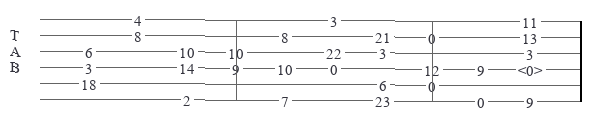0: (330, 61, 342, 75), (428, 77, 440, 91), (428, 29, 440, 43), (477, 93, 489, 107)
10: (179, 45, 199, 59), (228, 45, 248, 59), (277, 61, 297, 75)
11: (522, 13, 542, 27)
12: (424, 61, 444, 75)
13: (522, 29, 542, 43)
14: (179, 61, 199, 75)
18: (81, 77, 101, 91)
2: (183, 93, 195, 107)
21: (375, 29, 395, 43)
22: (326, 45, 346, 59)
23: (375, 93, 395, 107)
3: (85, 61, 97, 75), (330, 13, 342, 27), (379, 45, 391, 59), (526, 45, 538, 59)
4: (134, 13, 146, 27)
6: (85, 45, 97, 59), (379, 77, 391, 91)
7: (281, 93, 293, 107)
8: (134, 29, 146, 43), (281, 29, 293, 43)
9: (232, 61, 244, 75), (477, 61, 489, 75), (526, 93, 538, 107)
harmonic: (518, 61, 547, 75)
